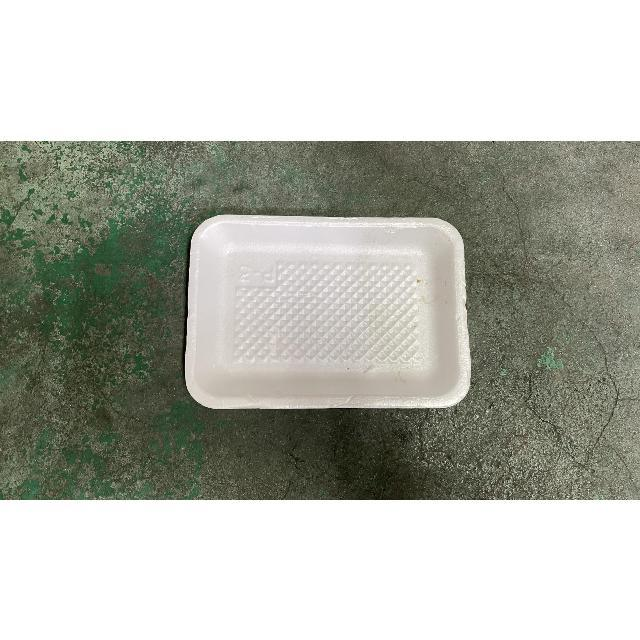Plastico descartable: (184, 215, 472, 413)
